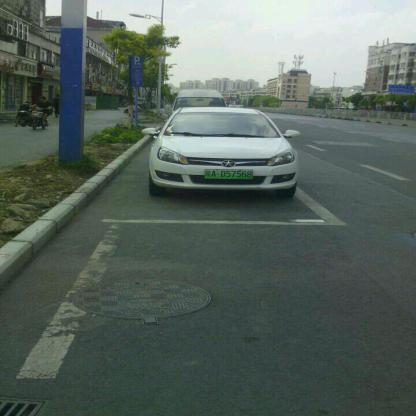lp: (203, 168, 253, 180)
